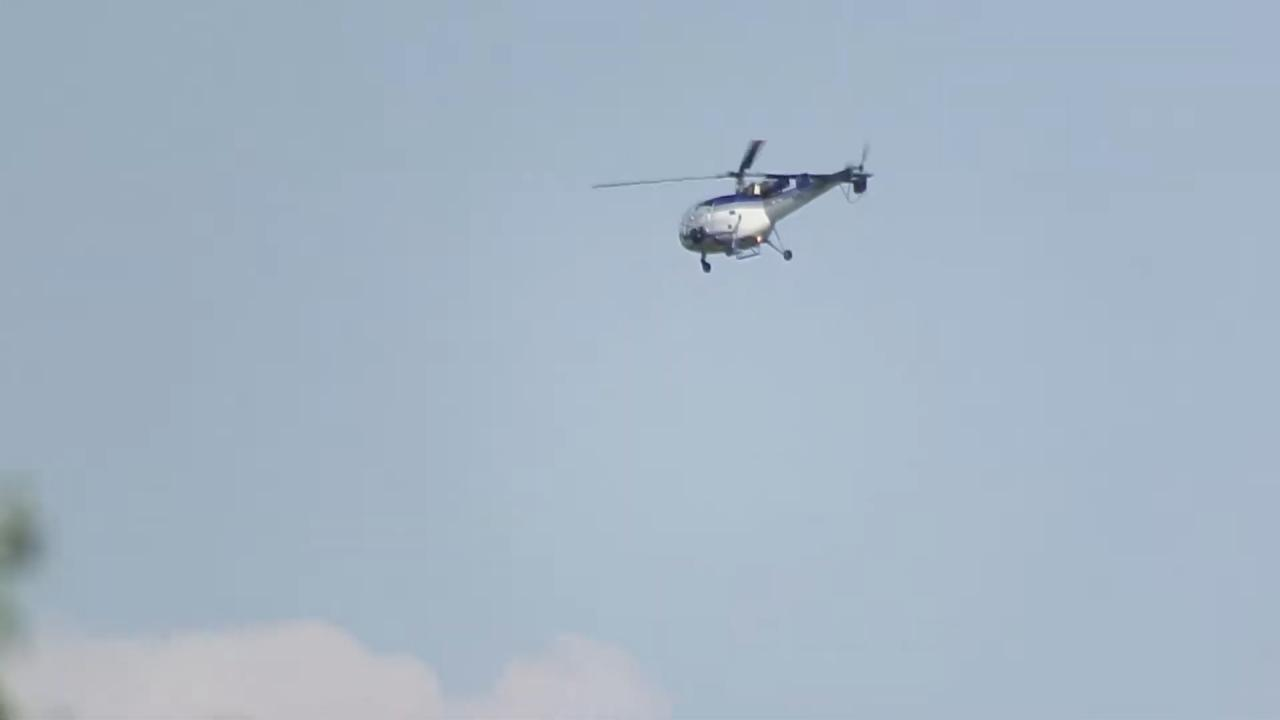Helicopter: (568, 109, 894, 301)
